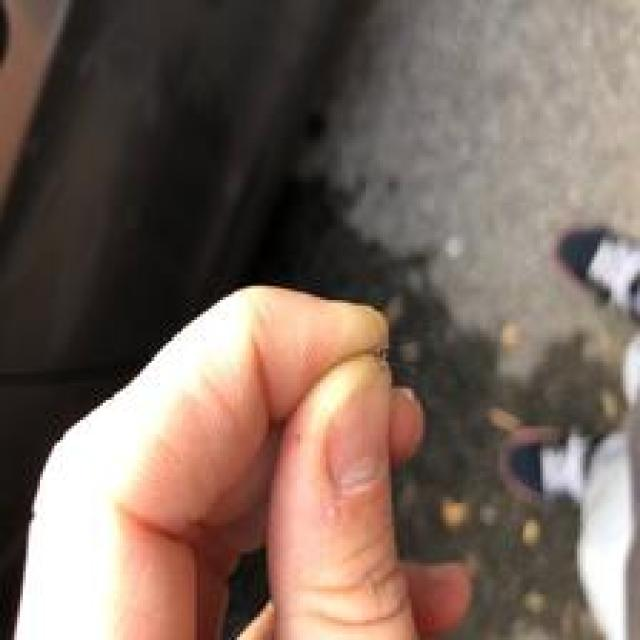Aedes albopictus: (491, 220, 640, 640)
